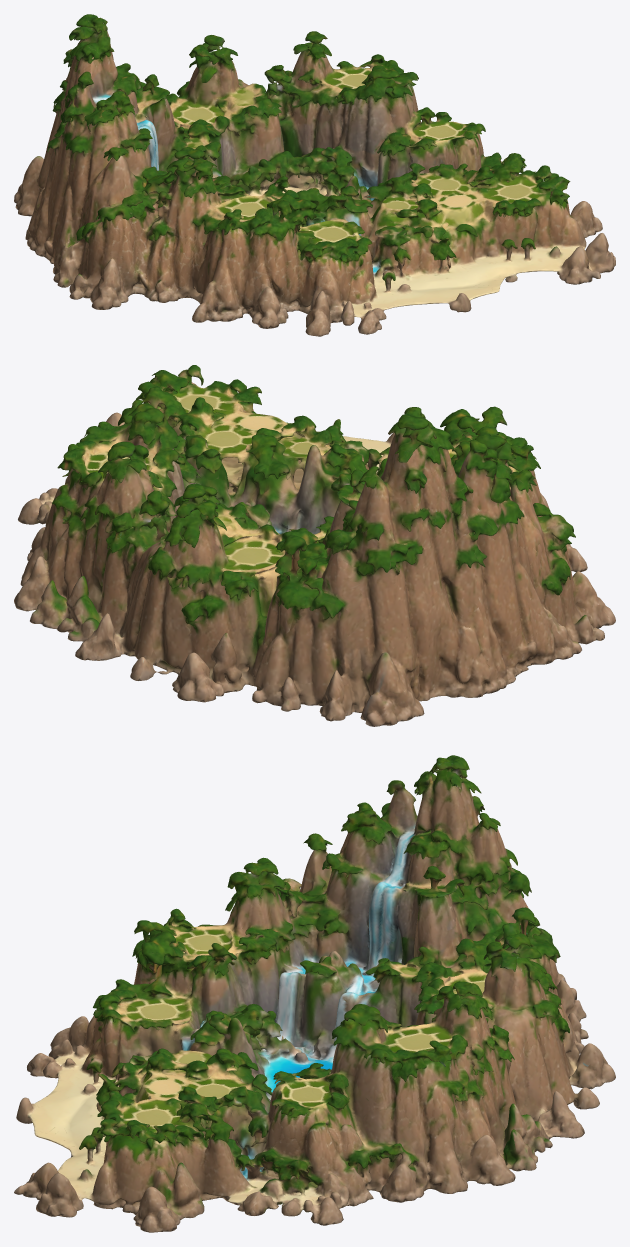
Rendered from cascade-isle-v2.glb.
3 renders of one model, top to bottom at view 1: azimuth 30°, elevation 25°; view 2: azimuth 150°, elevation 25°; view 3: azimuth 270°, elevation 25°, orthographic. The views are drawn at different scales.
Visible parts, largest first — view 1: RRH_ROTATION_CCW_70_WORLD_Y; view 2: RRH_ROTATION_CCW_70_WORLD_Y; view 3: RRH_ROTATION_CCW_70_WORLD_Y.
Part boxes in pixels (<box>): RRH_ROTATION_CCW_70_WORLD_Y: <box>14,14,615,336</box>; RRH_ROTATION_CCW_70_WORLD_Y: <box>14,365,615,726</box>; RRH_ROTATION_CCW_70_WORLD_Y: <box>14,755,615,1232</box>.
Bounding box in the file's own units: 1.8 × 0.7765 × 1.68.
1 material, 1 textured.
